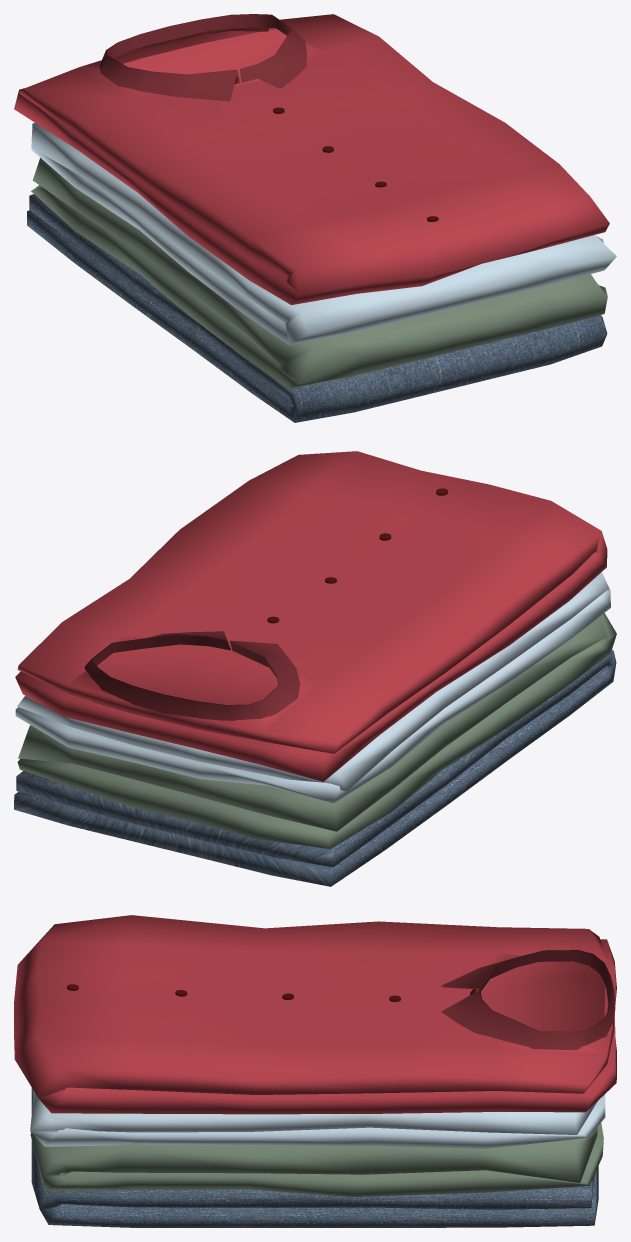
File: shirts.glb
The picture shows the model from 3 angles, top to bottom: view 1: azimuth 30°, elevation 25°; view 2: azimuth 150°, elevation 25°; view 3: azimuth 270°, elevation 25°; orthographic projection. The views are drawn at different scales.
Parts seen in each view (by area): view 1: chemise_Cube, clothe_base.001_Cube.002, clothe_base_Cube.001, clothe_base.002_Cube.003; view 2: chemise_Cube, clothe_base.001_Cube.002, clothe_base.002_Cube.003, clothe_base_Cube.001; view 3: chemise_Cube, clothe_base.001_Cube.002, clothe_base.002_Cube.003, clothe_base_Cube.001.
Part boxes in pixels (left/top/right/bottom): chemise_Cube: left=14, top=14, right=609, bottom=304; clothe_base.001_Cube.002: left=31, top=158, right=607, bottom=388; clothe_base_Cube.001: left=31, top=123, right=616, bottom=345; clothe_base.002_Cube.003: left=27, top=194, right=607, bottom=422; chemise_Cube: left=15, top=451, right=607, bottom=781; clothe_base.001_Cube.002: left=17, top=613, right=616, bottom=848; clothe_base.002_Cube.003: left=14, top=650, right=616, bottom=886; clothe_base_Cube.001: left=15, top=572, right=610, bottom=803; chemise_Cube: left=14, top=915, right=616, bottom=1114; clothe_base.001_Cube.002: left=30, top=1122, right=603, bottom=1196; clothe_base.002_Cube.003: left=31, top=1088, right=598, bottom=1227; clothe_base_Cube.001: left=30, top=1089, right=605, bottom=1148.
Size of the model in its own units: 26.33 by 12.24 by 40.41.
Materials: 6 (1 with a texture image).
